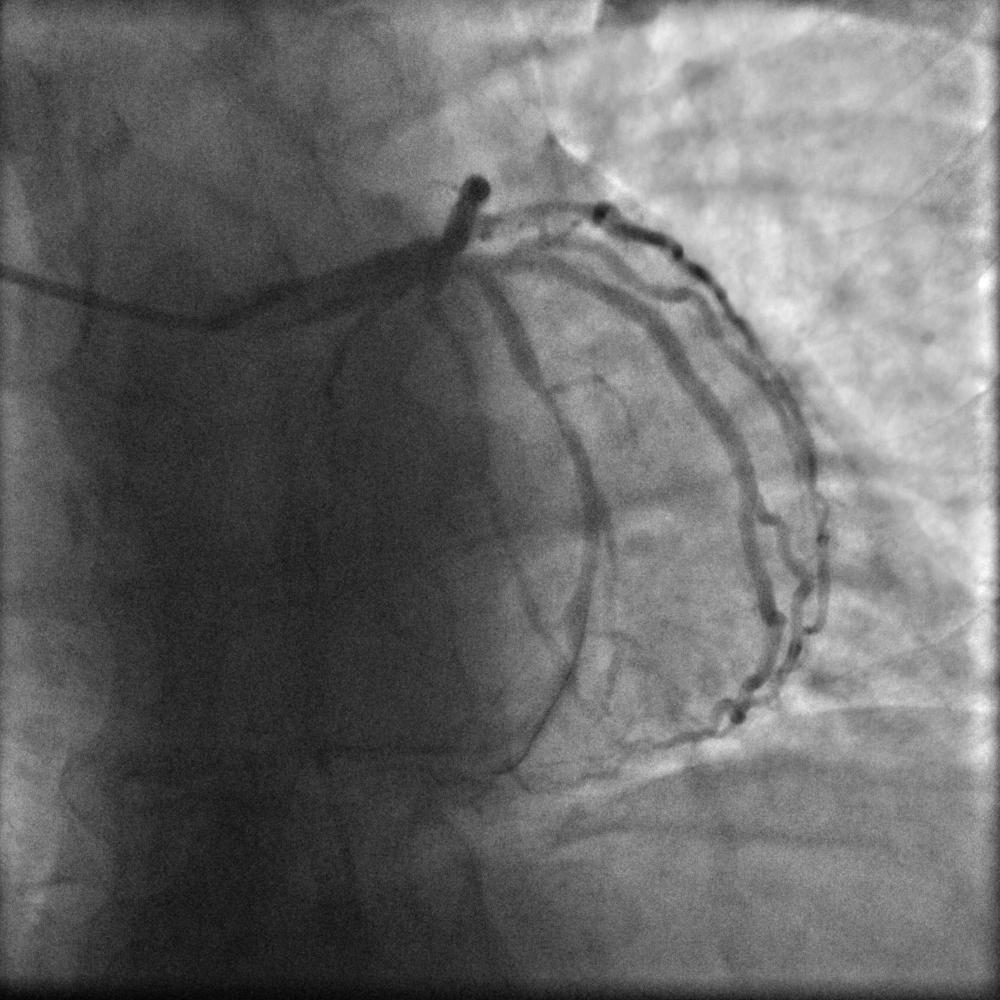Stenosis: (536, 370, 581, 445)
